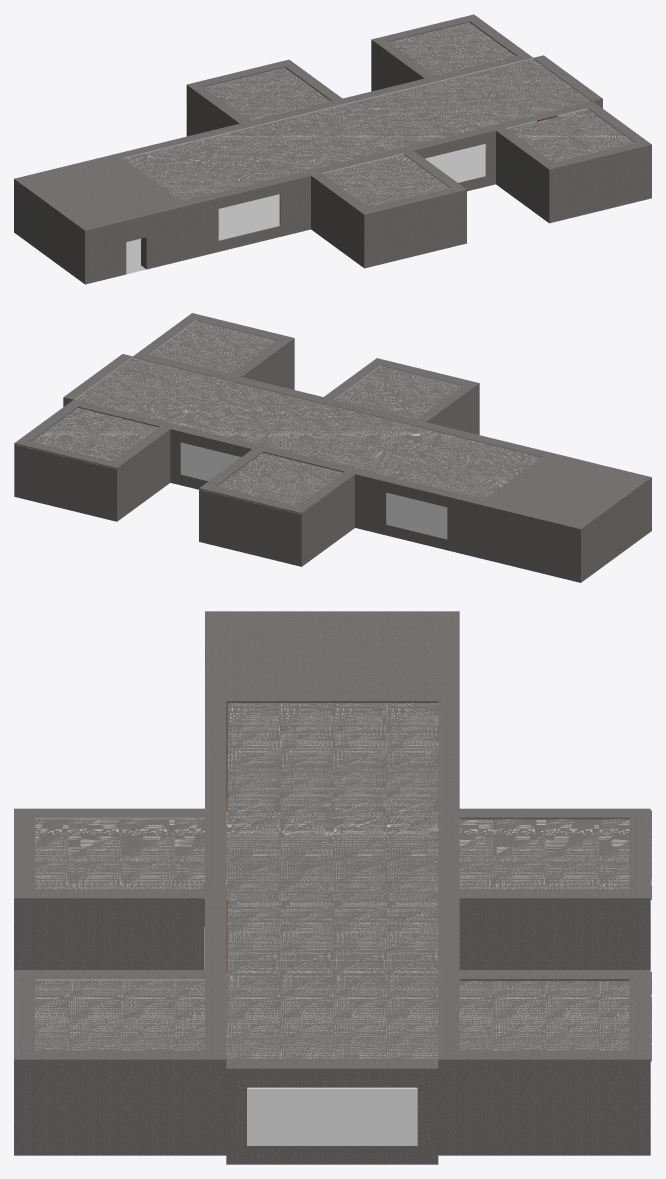
Rendered from Police Station.obj.
3 views of the same model, one above another, from view 1: azimuth 30°, elevation 25°; view 2: azimuth 150°, elevation 25°; view 3: azimuth 270°, elevation 25° (orthographic). The views are drawn at different scales.
Parts seen in each view (by area): view 1: Police Station_0, Police Station_6, Police Station_7, Police Station_1, Police Station_2, Police Station_4; view 2: Police Station_0, Police Station_6, Police Station_7, Police Station_1, Police Station_4; view 3: Police Station_0, Police Station_6, Police Station_7, Police Station_4.
Boxes of the visible parts, left/top/right/bottom form: Police Station_0: left=14, top=14, right=651, bottom=284; Police Station_6: left=126, top=22, right=632, bottom=206; Police Station_7: left=218, top=144, right=485, bottom=240; Police Station_1: left=123, top=58, right=592, bottom=158; Police Station_2: left=126, top=238, right=146, bottom=274; Police Station_4: left=321, top=108, right=635, bottom=187; Police Station_0: left=14, top=313, right=651, bottom=582; Police Station_6: left=28, top=321, right=538, bottom=513; Police Station_7: left=180, top=442, right=447, bottom=538; Police Station_1: left=74, top=356, right=542, bottom=457; Police Station_4: left=149, top=320, right=462, bottom=399; Police Station_0: left=14, top=611, right=651, bottom=1164; Police Station_6: left=35, top=703, right=651, bottom=1059; Police Station_7: left=204, top=926, right=417, bottom=1145; Police Station_4: left=35, top=817, right=204, bottom=980.
Size of the model in its own units: 51.05 by 5 by 30.07.
